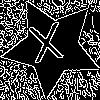X: (27, 22, 68, 73)
